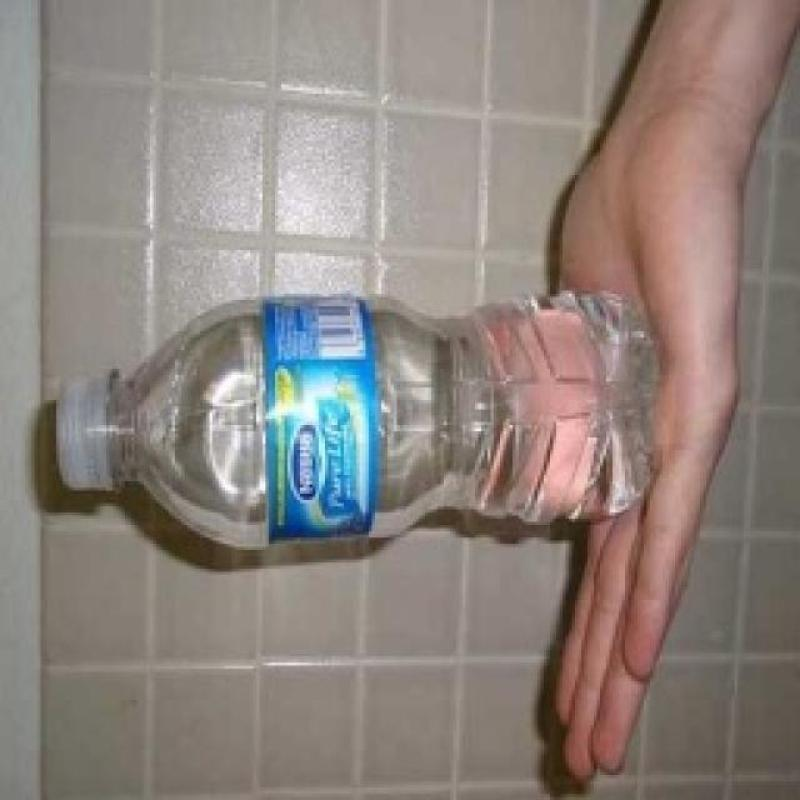botella: (53, 297, 657, 547)
